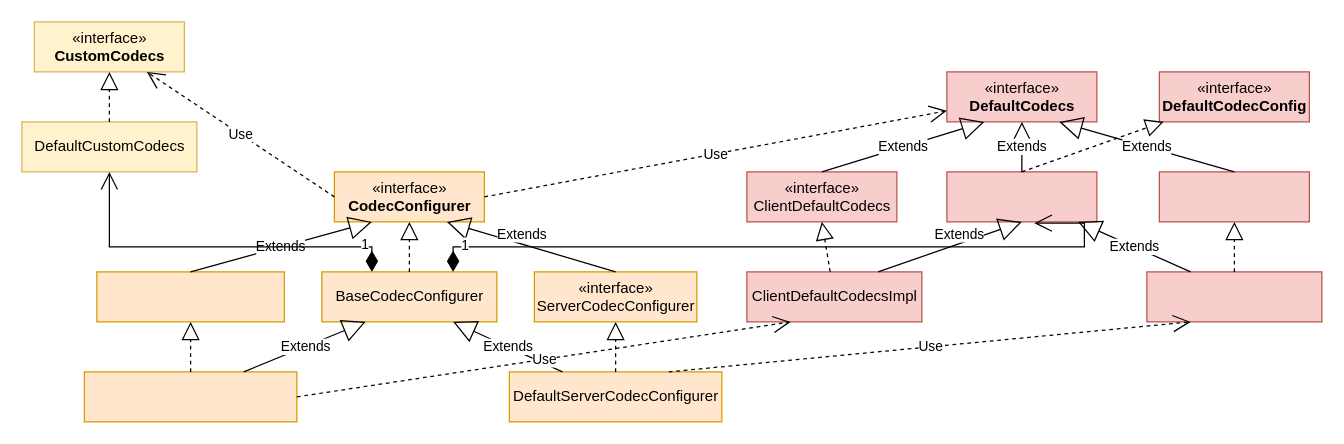
The diagram is 1344 pixels wide and 444 high, and some of its shapes have lost their labels. Here are the shapes that lost their labels. From the top down, the centre of each, then its label:
At pixel 1021 196: "BaseDefaultCodecs".
At pixel 1233 196: "«interface» ServerDefaultCodecs".
At pixel 190 296: "«interface» ClientCodecConfigurer".
At pixel 1234 296: "ServerDefaultCodecsImpl".
At pixel 190 396: "DefaultClientCodecConfigurer".
